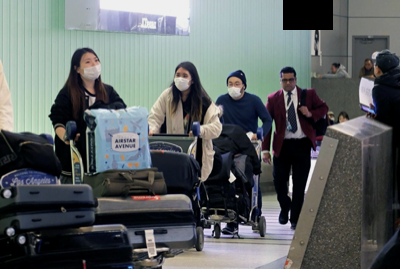with_mask: (80, 55, 102, 80), (174, 71, 192, 90), (228, 79, 243, 98)
without_mask: (282, 75, 296, 90), (365, 61, 374, 70)
